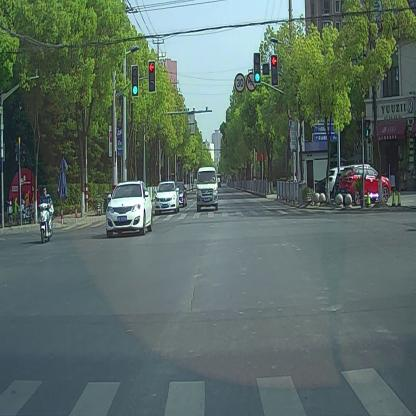Green Light: (253, 53, 262, 86), (132, 65, 139, 97)
